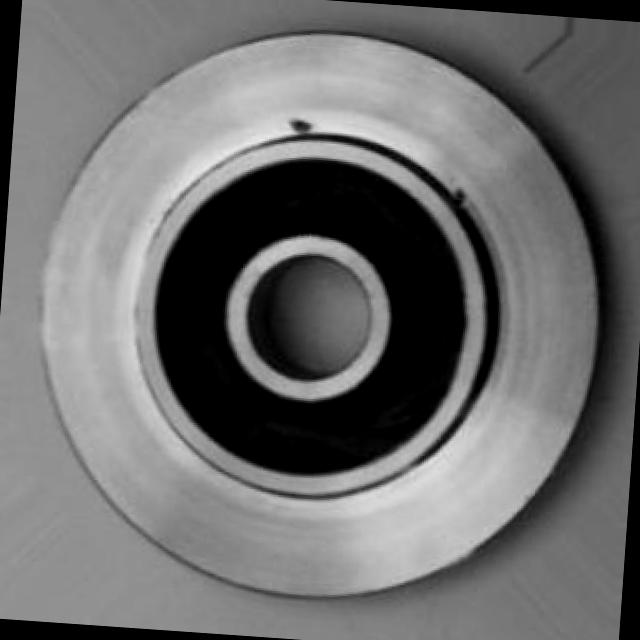Defect: (284, 112, 322, 137)
